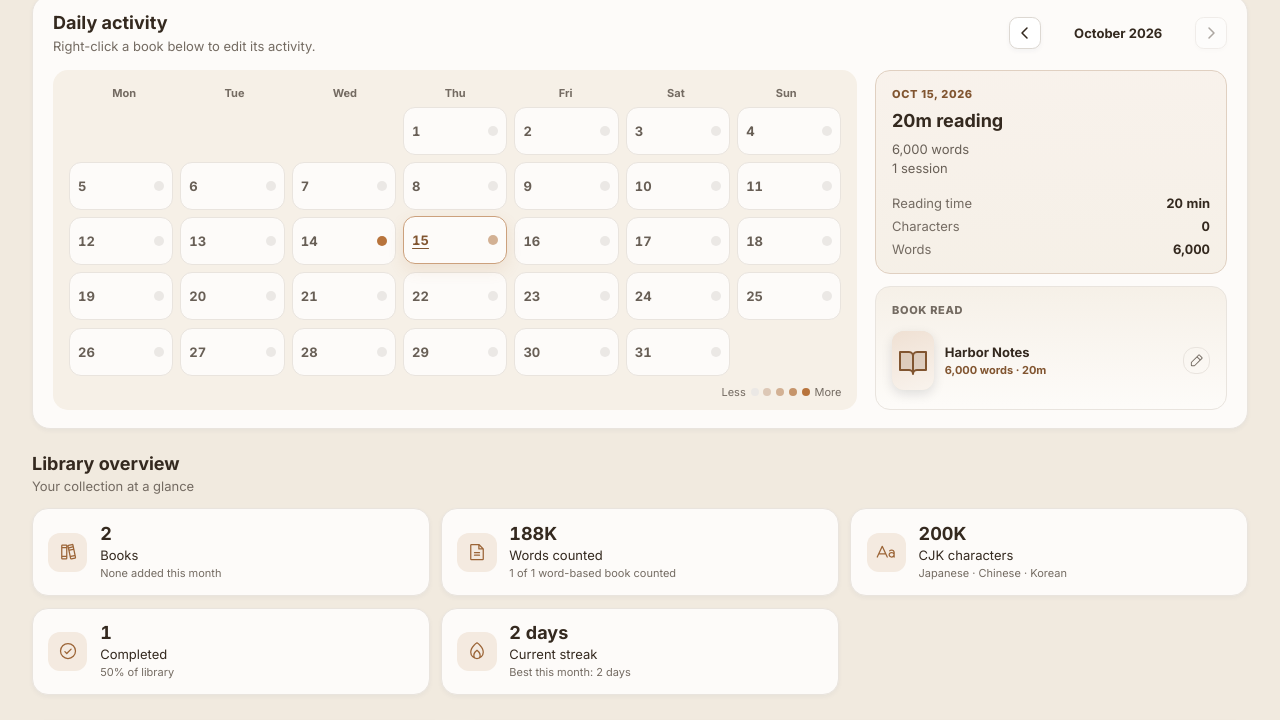
Scenario: Statistics › refreshes a stale day and reopens with the new totals without replacing the unsaved draft
(page scrolled)
Click the button named "Edit daily activity for Harbor Notes".
click(1197, 361)  # box [1183,347,1210,374]
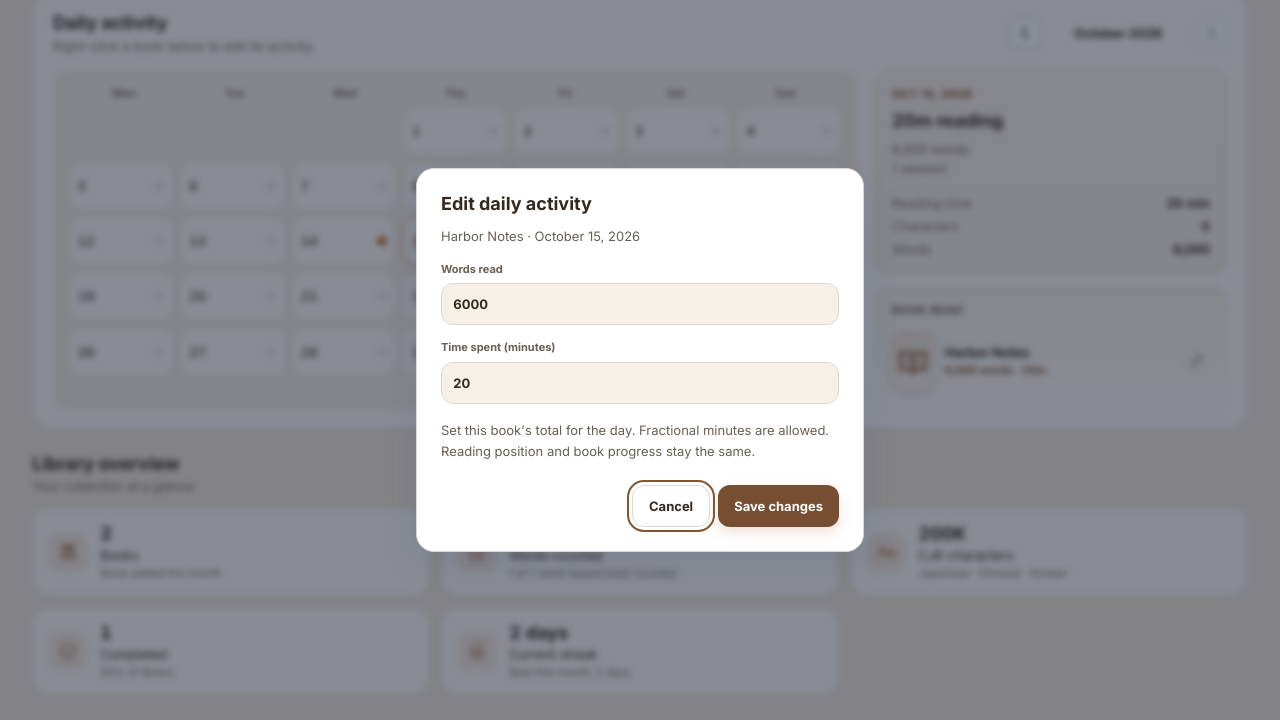
Replace the text in the field labelled "Words read" with "500" at (640, 304), box [441,283,839,325]
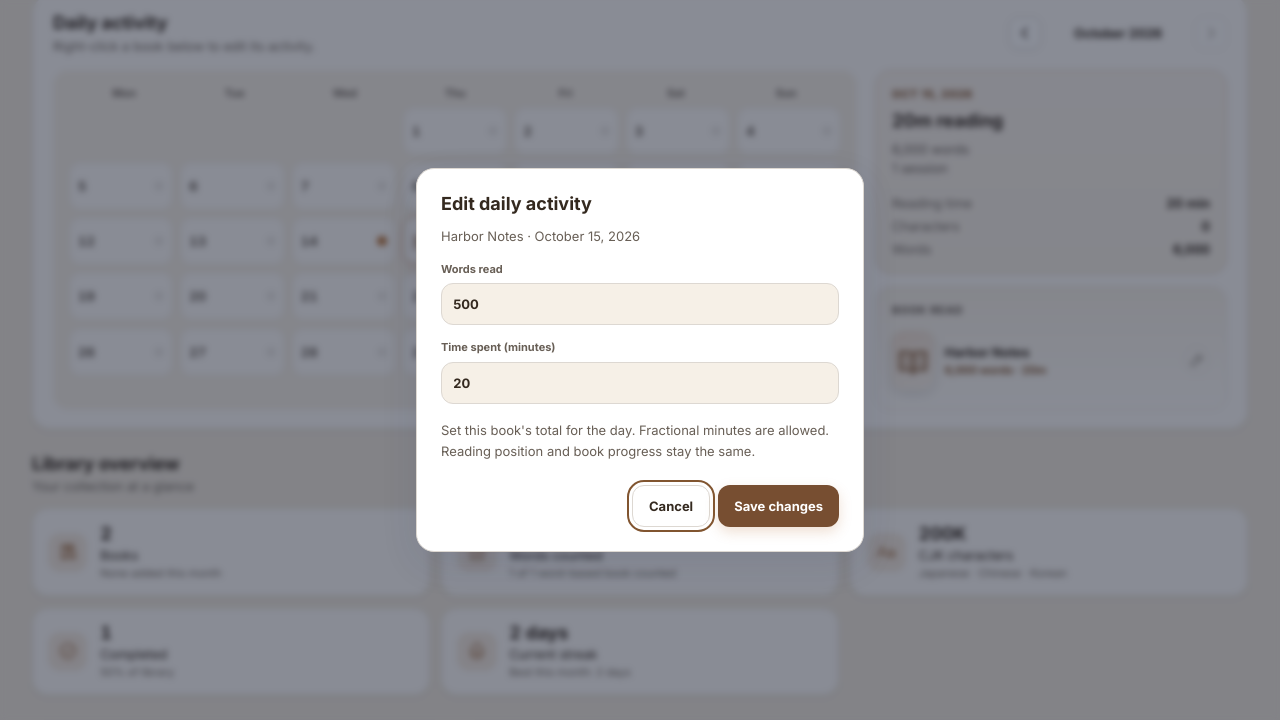
Click the button "Save changes".
click(779, 506)  # box [718,485,839,527]
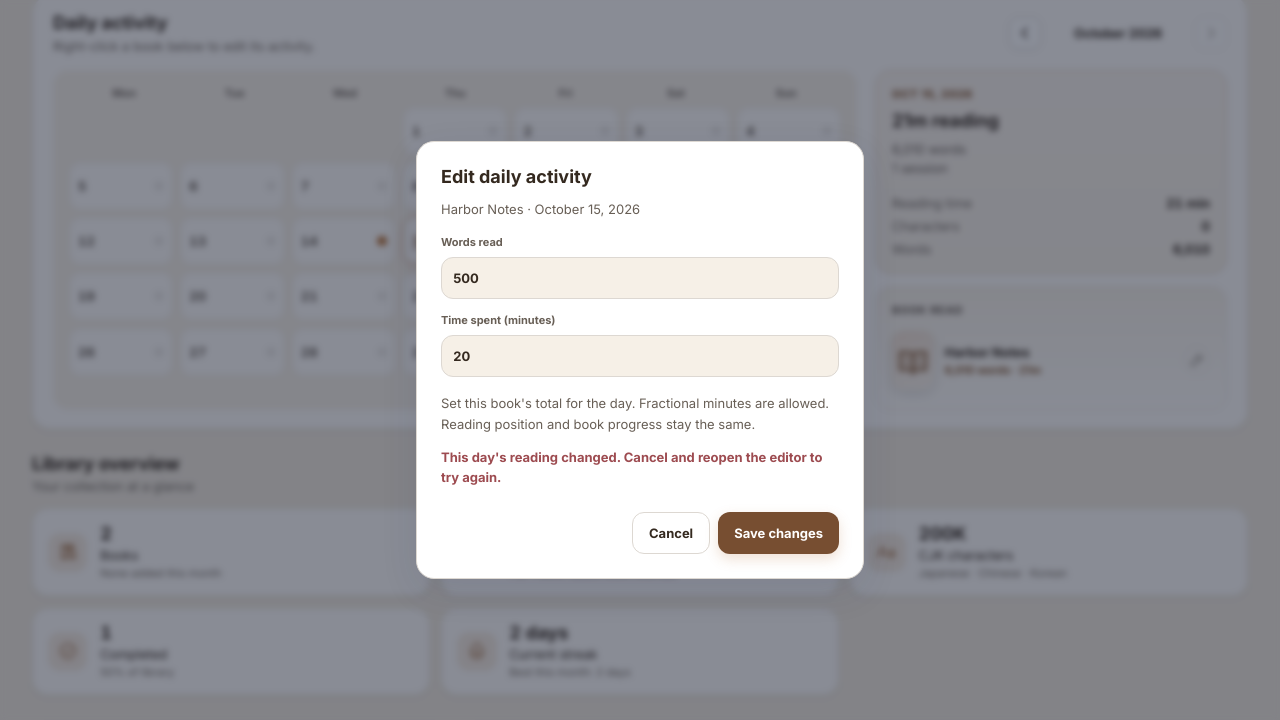
expect the message shows "reading changed": met, box [441,449,822,485]
Click the button "Cancel".
click(671, 533)  # box [632,512,710,554]
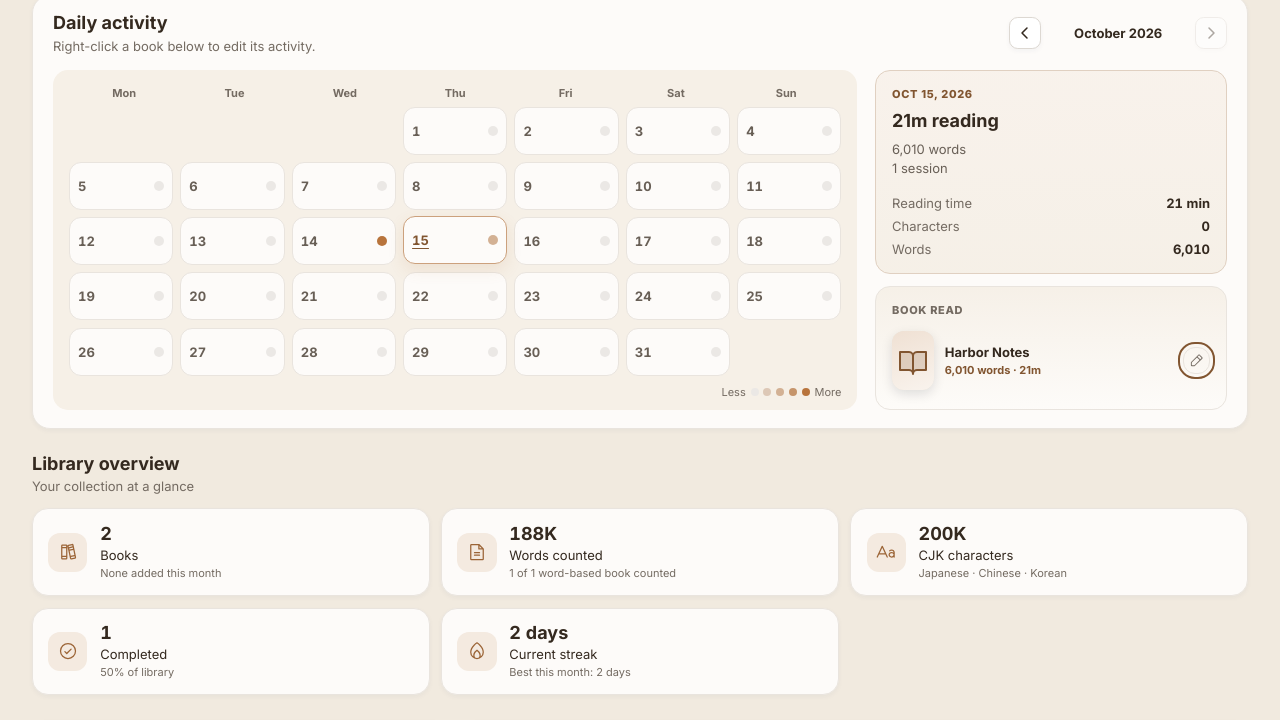
Click the button named "Edit daily activity for Harbor Notes".
click(1197, 361)  # box [1183,347,1210,374]
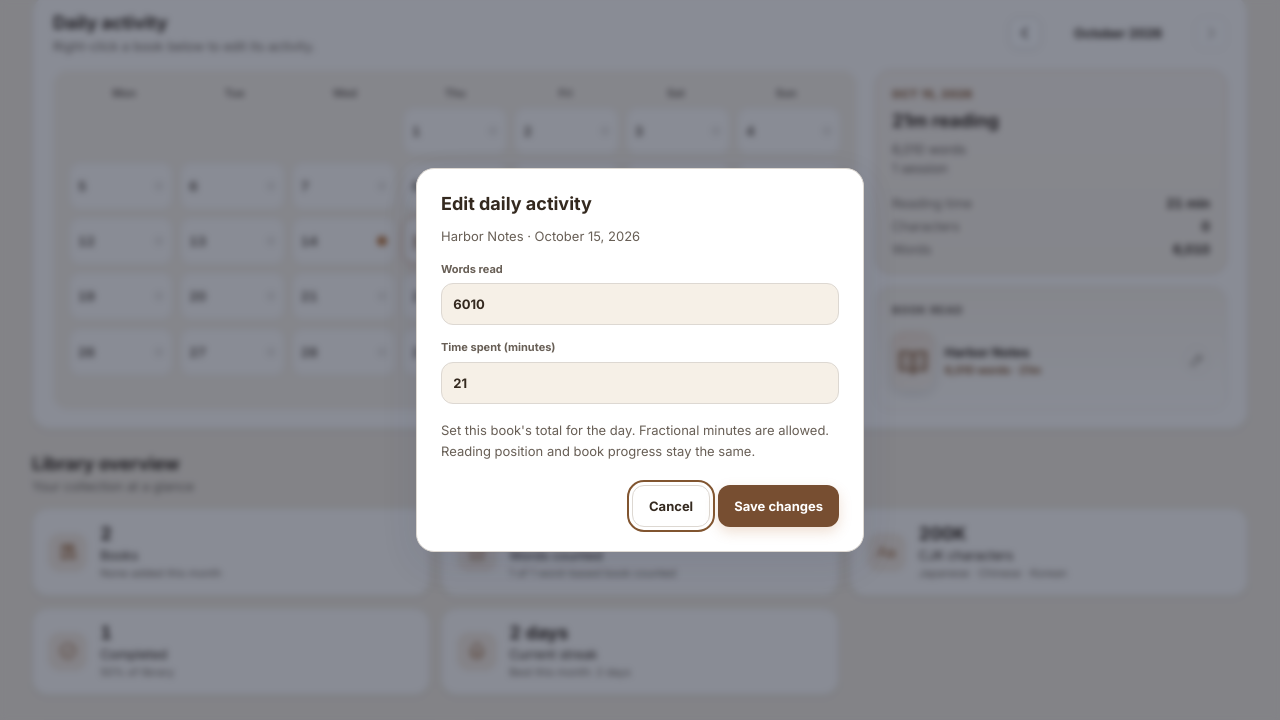
expect the field labelled "Words read" holds "6010": met, box [441,283,839,325]
